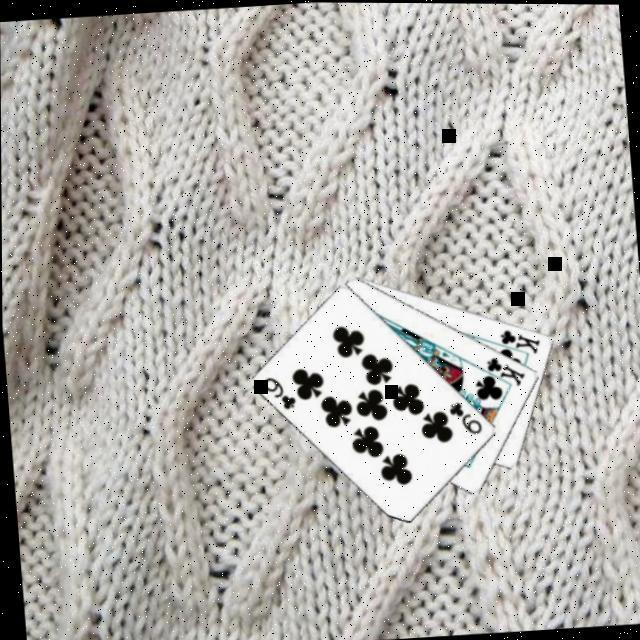9C: (443, 395, 484, 438), (258, 370, 297, 412)
KC: (473, 349, 527, 389), (487, 321, 541, 358)
